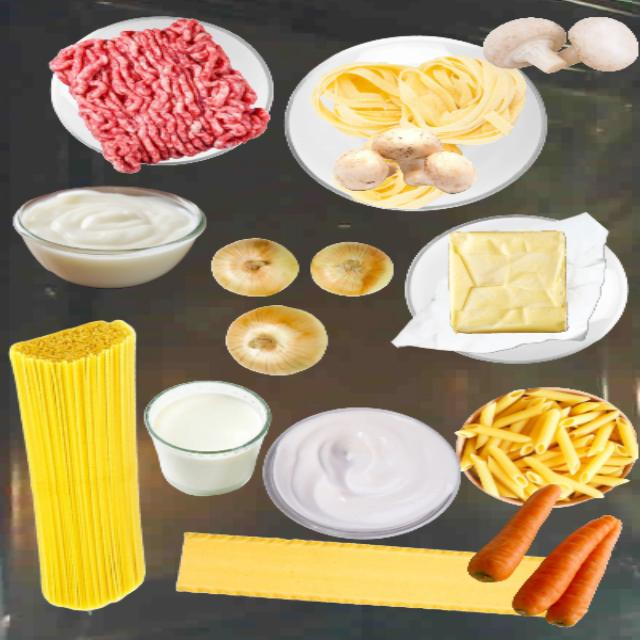Milk: (122, 368, 274, 526)
